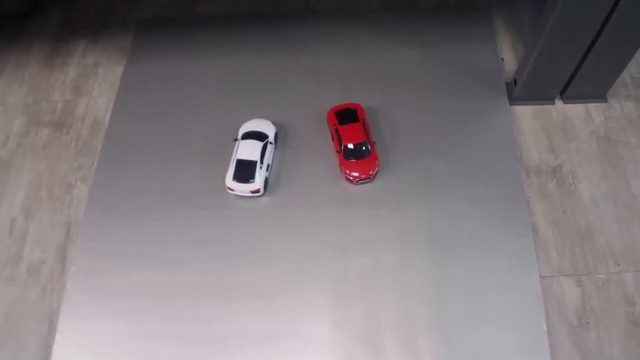car: (326, 101, 381, 186), (224, 118, 280, 198)
